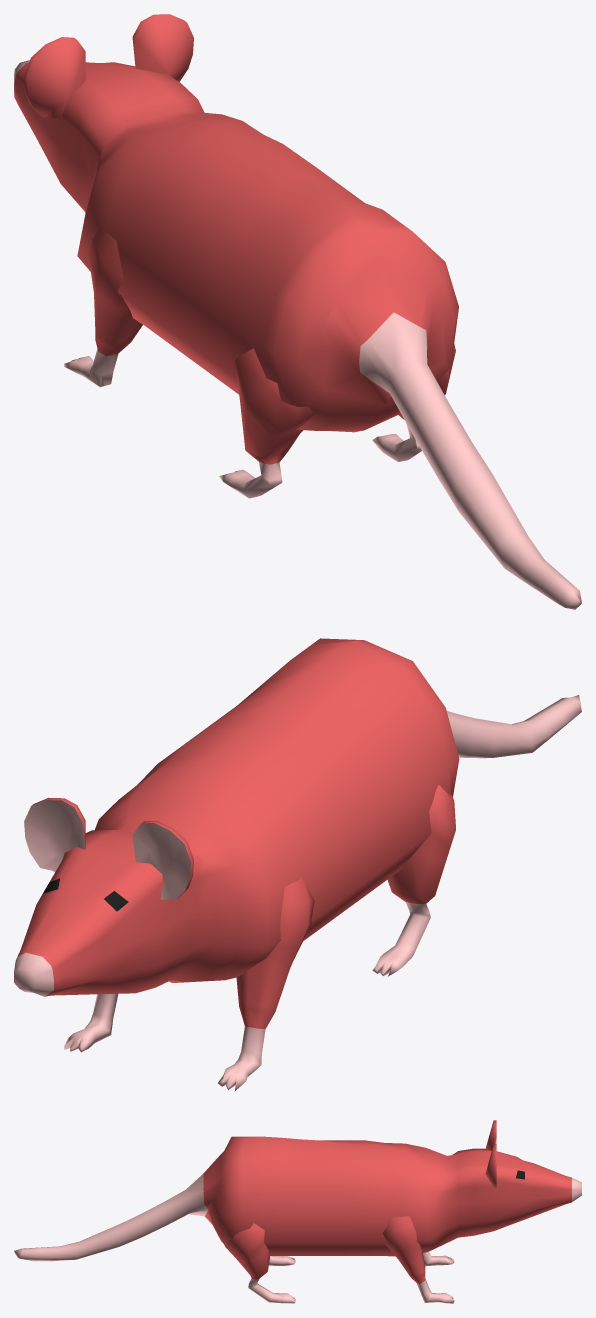
File: rat_model.fbx
The picture shows the model from 3 angles, top to bottom: view 1: azimuth 30°, elevation 25°; view 2: azimuth 150°, elevation 25°; view 3: azimuth 270°, elevation 25°; orthographic projection. The views are drawn at different scales.
Visible parts, largest first — view 1: rat; view 2: rat; view 3: rat.
Part boxes in pixels (box(x1,y1,x2,y2)): rat: box(14, 14, 581, 609); rat: box(14, 638, 581, 1090); rat: box(14, 1120, 581, 1303).
Bounding box in the file's own units: 6.98 × 9.15 × 31.61.
